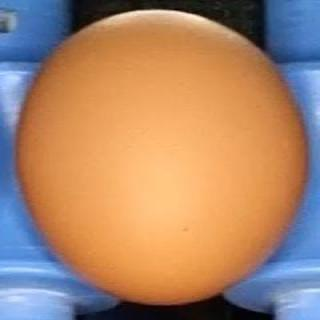Telur: (9, 4, 313, 312)
